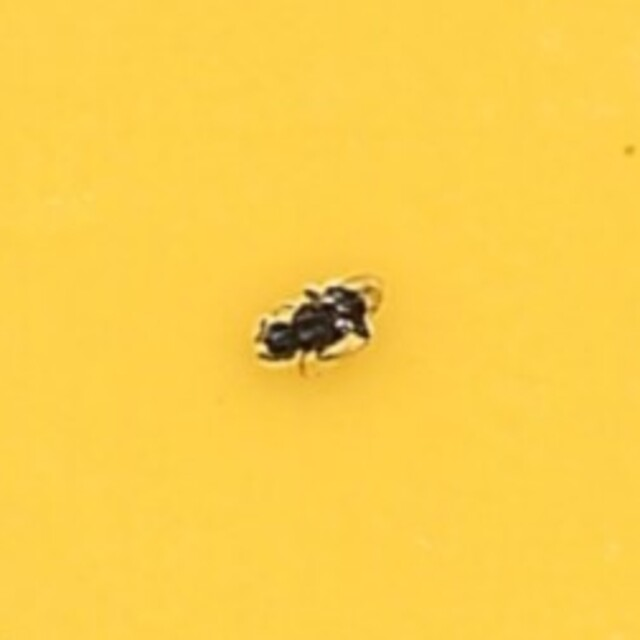Hymenoptera: (254, 266, 386, 374)
